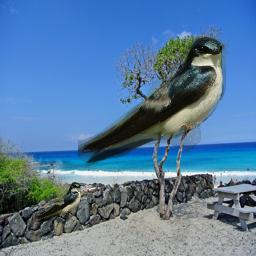Swallow: (78, 36, 226, 166), (35, 182, 81, 223)
